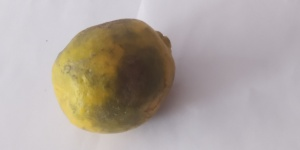BAD: (50, 16, 176, 136)
